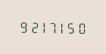five: (67, 20, 76, 34)
nine: (17, 19, 26, 33)
one: (37, 19, 46, 33), (57, 20, 66, 34)
seven: (47, 19, 56, 34)
two: (27, 19, 36, 33)
zero: (77, 20, 86, 34)
